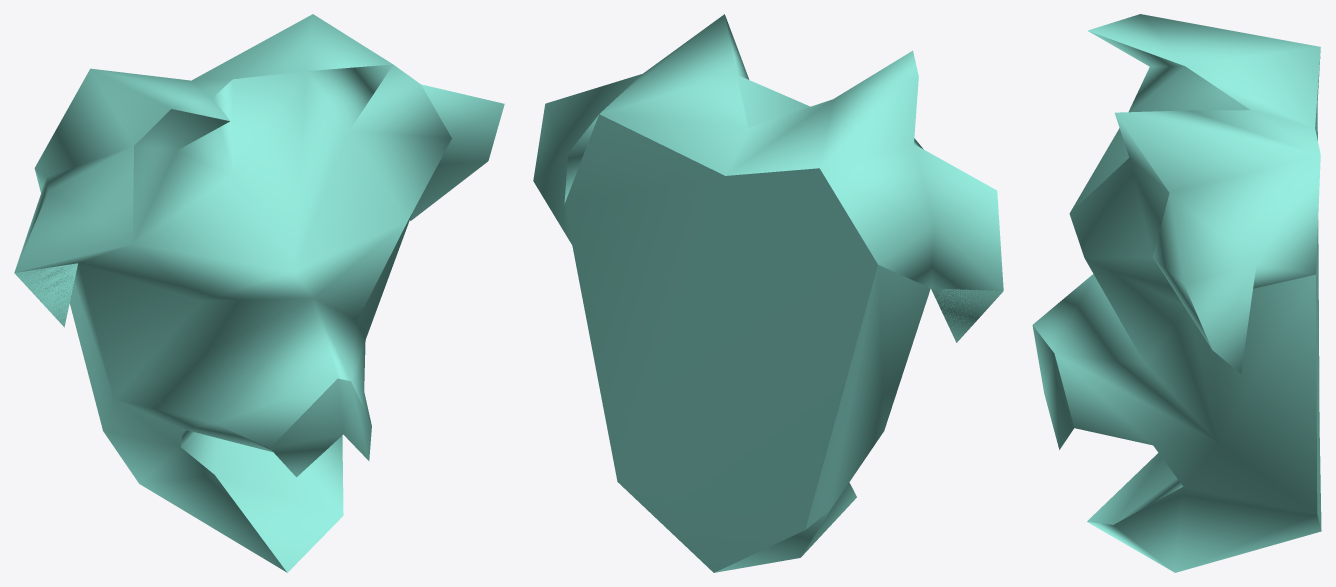
Rendered from sculpture_02.fbx.
The picture shows the model from 3 angles, left to right: view 1: azimuth 30°, elevation 25°; view 2: azimuth 150°, elevation 25°; view 3: azimuth 270°, elevation 25°; orthographic projection.
Parts seen in each view (by area): view 1: sculpture_02_LOD1; view 2: sculpture_02_LOD1; view 3: sculpture_02_LOD1.
Boxes of the visible parts, x1,y1,x2,y2 form: sculpture_02_LOD1: [14, 14, 504, 572]; sculpture_02_LOD1: [533, 14, 1003, 572]; sculpture_02_LOD1: [1032, 14, 1321, 572].
Size of the model in its own units: 67.77 by 67.41 by 35.72.
